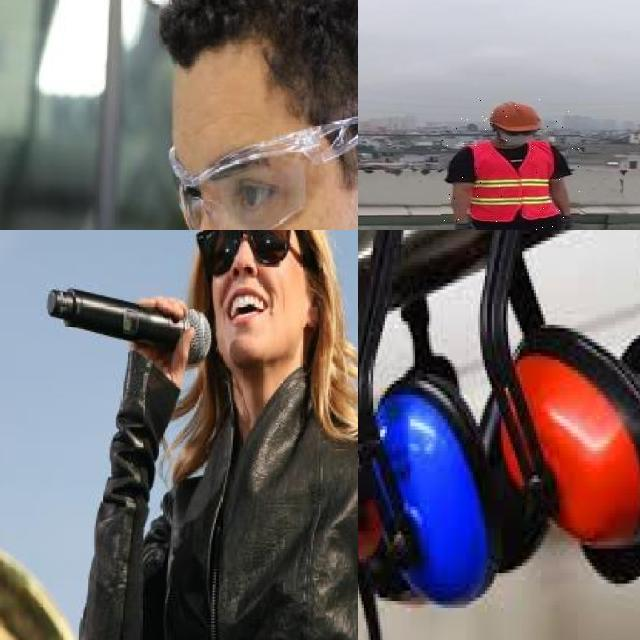Ear-protection: (494, 317, 640, 548), (358, 373, 496, 608)
face_nomask: (156, 144, 308, 230), (208, 230, 287, 339)
glasses: (162, 95, 358, 230), (196, 230, 322, 284)
hand_noglove: (129, 290, 197, 367)
head_helmet: (481, 100, 546, 136)
head_nohelmet: (149, 0, 358, 80)
person: (88, 230, 358, 640), (441, 97, 580, 230)
vest: (465, 144, 563, 222)
